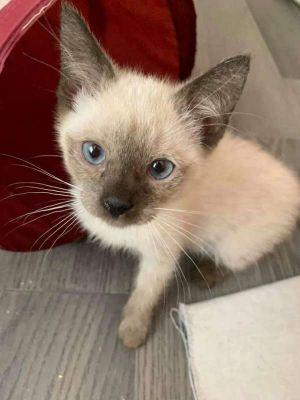siamese: (38, 1, 260, 235)
